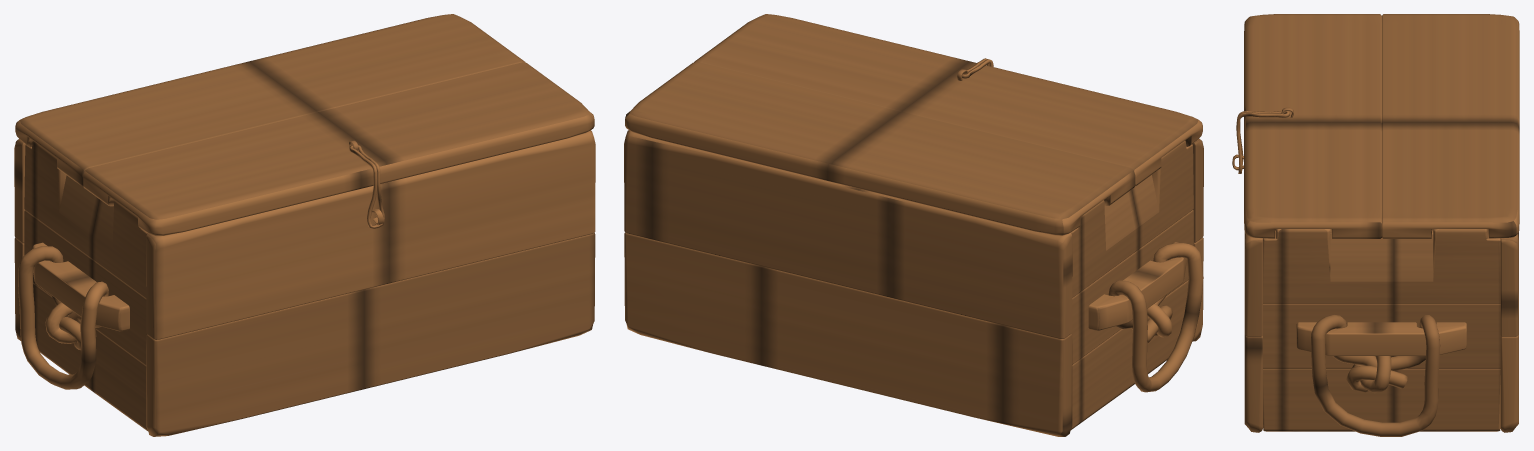
File: crate-nc-v1.gltf
3 views of the same model, side by side, from view 1: azimuth 30°, elevation 25°; view 2: azimuth 150°, elevation 25°; view 3: azimuth 270°, elevation 25° (orthographic). The views are drawn at different scales.
Parts seen in each view (by area): view 1: wooden_crate_01, wooden_crate_01_lid, wooden_crate_01_latch; view 2: wooden_crate_01, wooden_crate_01_lid; view 3: wooden_crate_01_lid, wooden_crate_01, wooden_crate_01_latch.
Boxes of the visible parts, left/top/right/bottom form: wooden_crate_01: left=14, top=130, right=595, bottom=436; wooden_crate_01_lid: left=15, top=14, right=594, bottom=236; wooden_crate_01_latch: left=349, top=145, right=384, bottom=228; wooden_crate_01: left=624, top=130, right=1203, bottom=436; wooden_crate_01_lid: left=625, top=14, right=1202, bottom=235; wooden_crate_01_lid: left=1244, top=14, right=1519, bottom=238; wooden_crate_01: left=1232, top=154, right=1518, bottom=436; wooden_crate_01_latch: left=1236, top=111, right=1289, bottom=173.
Size of the model in its own units: 0.8253 by 0.3496 by 0.409.
1 material, 1 textured.
